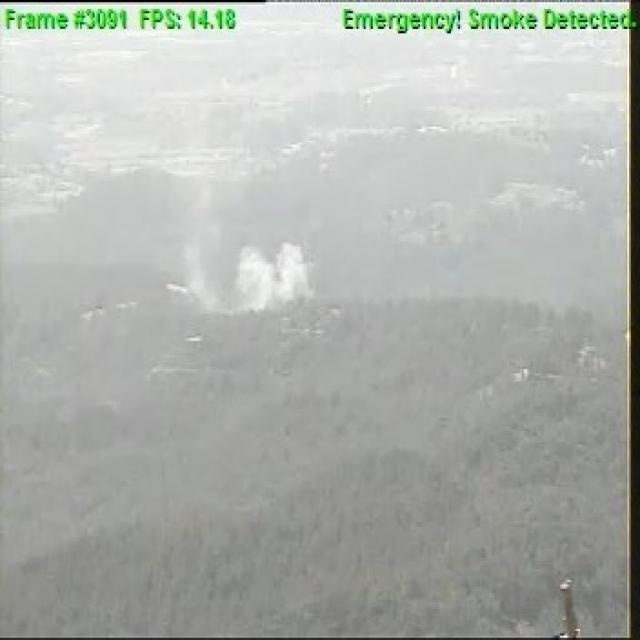smoke: (187, 228, 321, 311)
